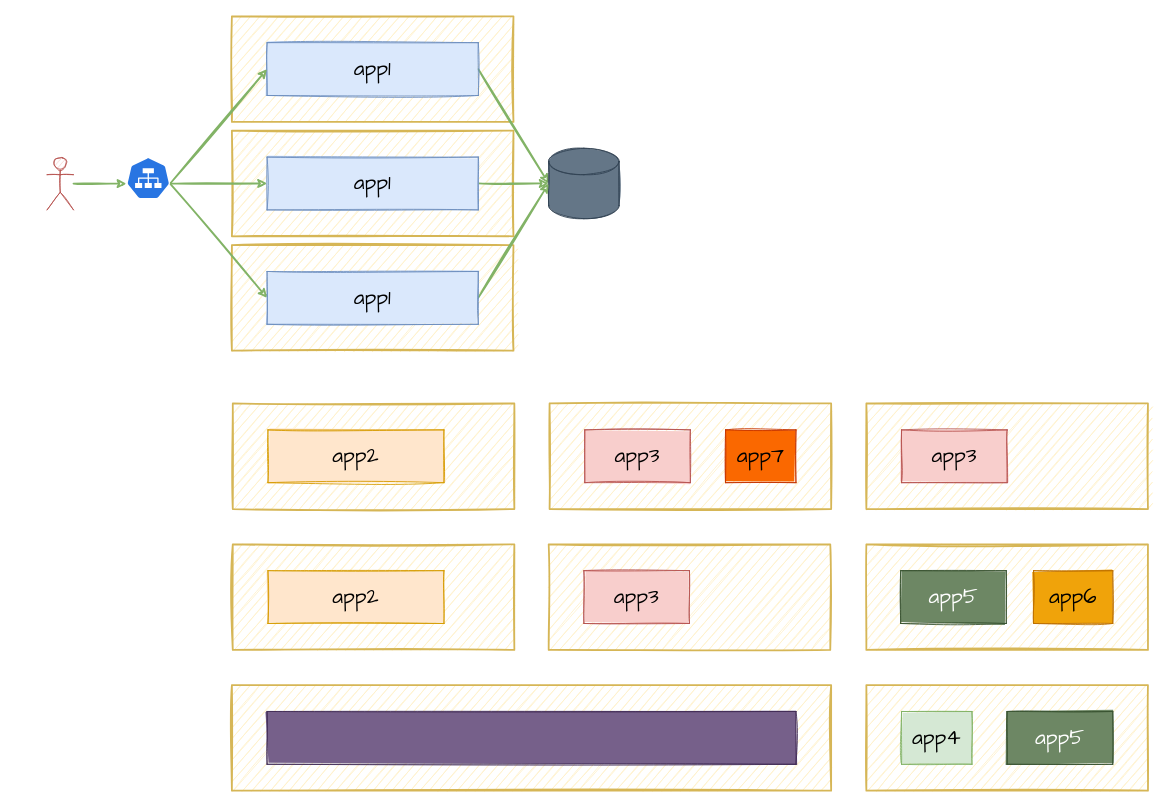
This 1164x806 diagram has some shape labels left out. The shapes that lost their labels are listed below. From the top down, each one's box as (x1, y1, x2, y2) in pixels, then its label:
(46, 156, 73, 210): Пользователь
(548, 147, 619, 219): DB
(266, 711, 796, 764): app8
